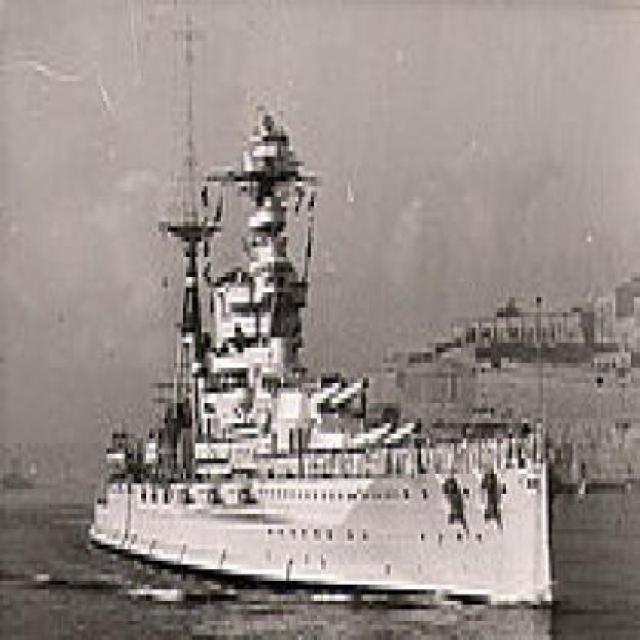warship2: (71, 86, 568, 631)
